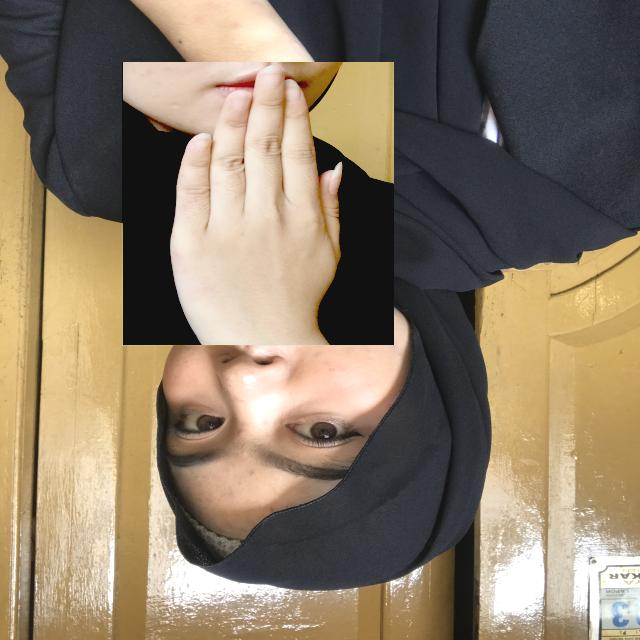ganteng: (122, 62, 394, 346)
